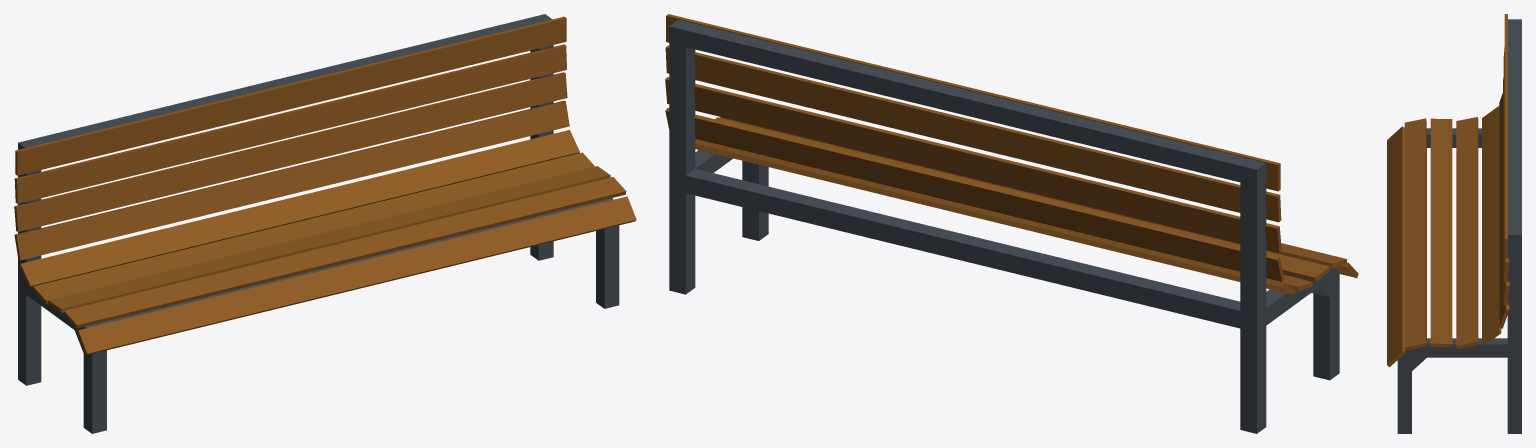
The model's file is Bench_GameJamAssets.fbx.
3 views of the same model, side by side, from view 1: azimuth 30°, elevation 25°; view 2: azimuth 150°, elevation 25°; view 3: azimuth 270°, elevation 25° (orthographic). The views are drawn at different scales.
Visible parts, largest first — view 1: Bench_MetalbiebBoop; view 2: Bench_MetalbiebBoop; view 3: Bench_MetalbiebBoop.
Part boxes in pixels (bbox=[...]): Bench_MetalbiebBoop: bbox=[14, 14, 636, 433]; Bench_MetalbiebBoop: bbox=[665, 14, 1358, 433]; Bench_MetalbiebBoop: bbox=[1387, 14, 1521, 433].
Bounding box in the file's own units: 361 × 149 × 91.47.
